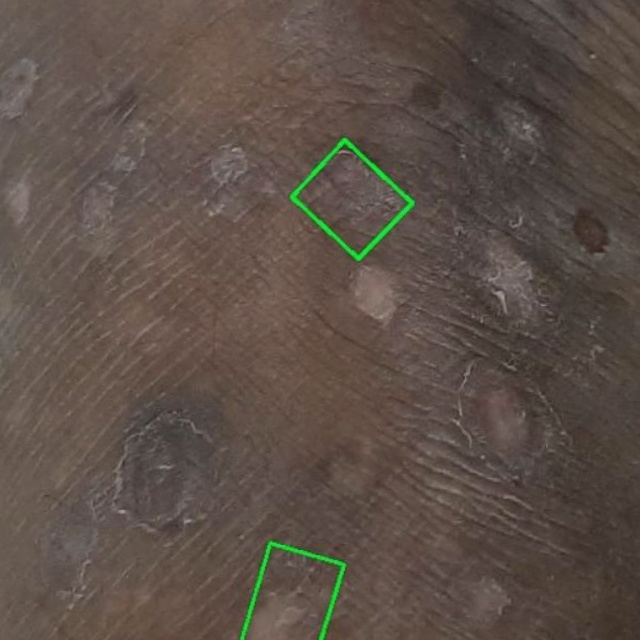Contact Dermatitis: (292, 139, 412, 258), (242, 542, 344, 639)
